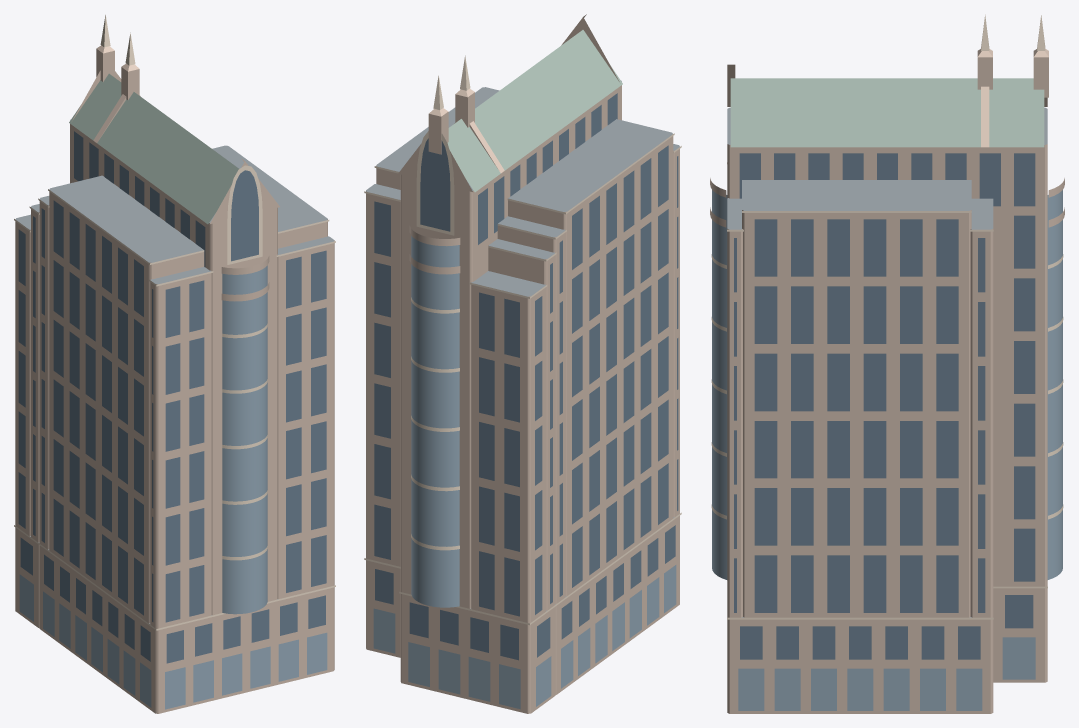
Rendered from carillon-charlotte.glb.
3 views of the same model, side by side, from view 1: azimuth 30°, elevation 25°; view 2: azimuth 150°, elevation 25°; view 3: azimuth 270°, elevation 25° (orthographic). The views are drawn at different scales.
Visible parts, largest first — view 1: The Carillon; view 2: The Carillon; view 3: The Carillon.
Boxes of the visible parts, x1=… form: The Carillon: x1=14, y1=15, x2=335, y2=713; The Carillon: x1=364, y1=14, x2=681, y2=713; The Carillon: x1=710, y1=14, x2=1064, y2=713.
Size of the model in its own units: 39.58 by 122 by 60.1.
